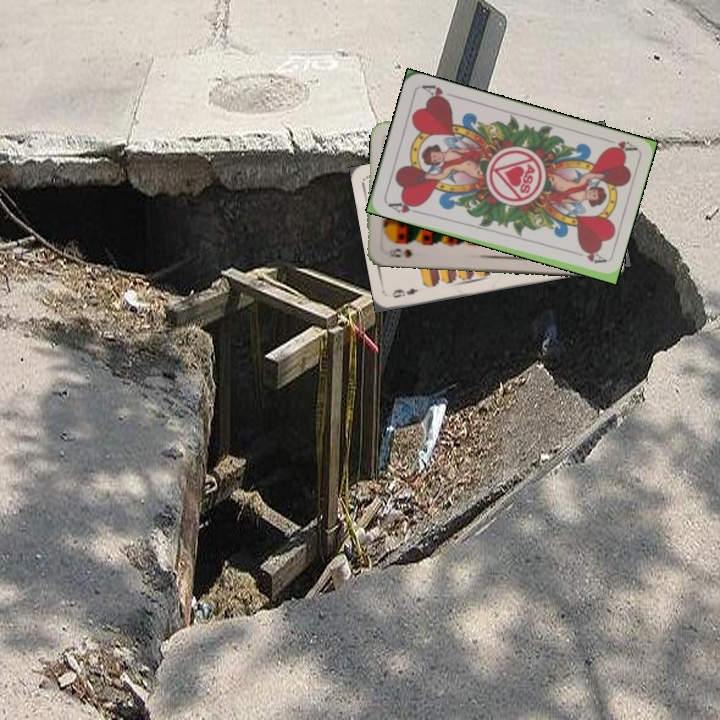E9: (387, 284, 421, 300)
HA: (599, 134, 639, 156), (384, 197, 423, 216)
S8: (385, 244, 414, 260)
